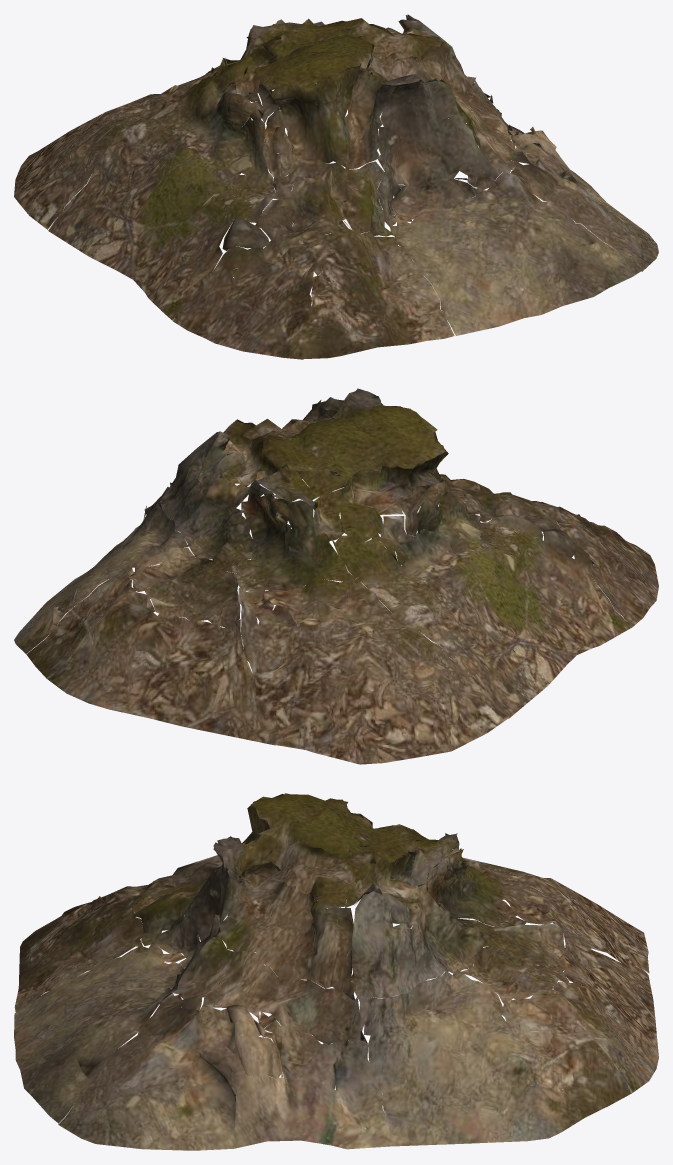
Rendered from stump.glb.
3 renders of one model, top to bottom at view 1: azimuth 30°, elevation 25°; view 2: azimuth 150°, elevation 25°; view 3: azimuth 270°, elevation 25°, orthographic. The views are drawn at different scales.
Visible parts, largest first — view 1: tree_stump_01; view 2: tree_stump_01; view 3: tree_stump_01.
Part boxes in pixels (box(x1,y1,x2,y2)): tree_stump_01: box(14, 14, 658, 359); tree_stump_01: box(14, 388, 658, 764); tree_stump_01: box(14, 793, 658, 1150).
Bounding box in the file's own units: 1.42 × 0.571 × 1.59.
Materials: 1 (1 with a texture image).
